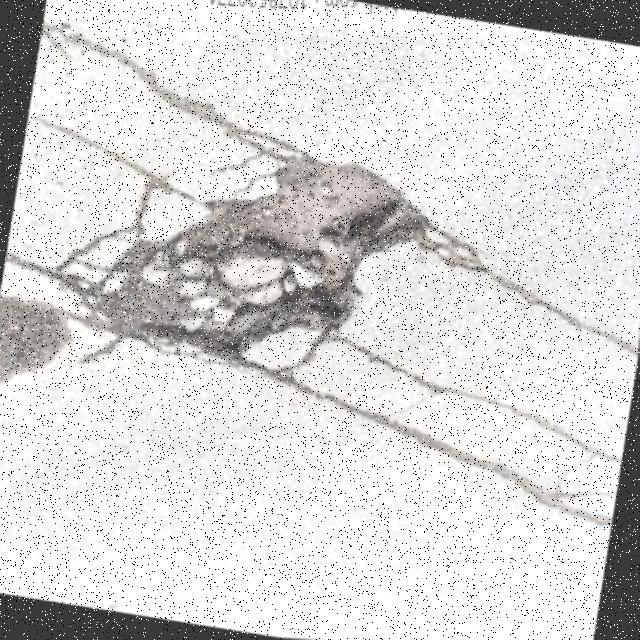Pothole: (80, 151, 491, 381), (0, 291, 72, 384)
